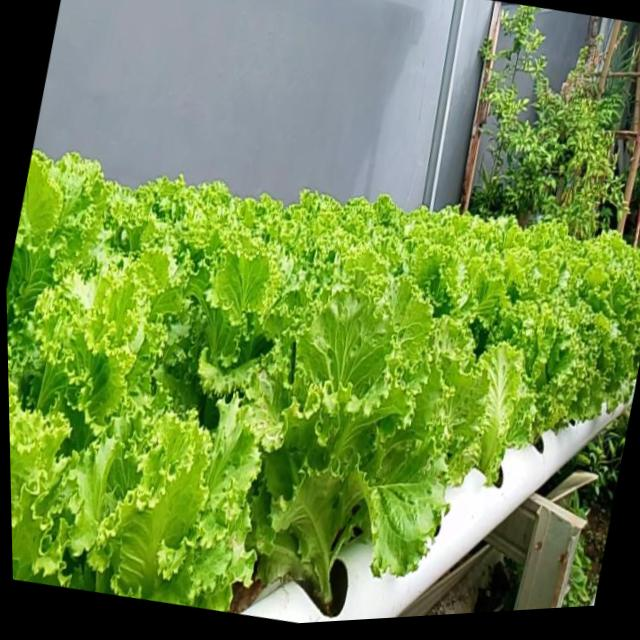Mature: (6, 154, 640, 619), (229, 292, 470, 619), (483, 300, 599, 459)
